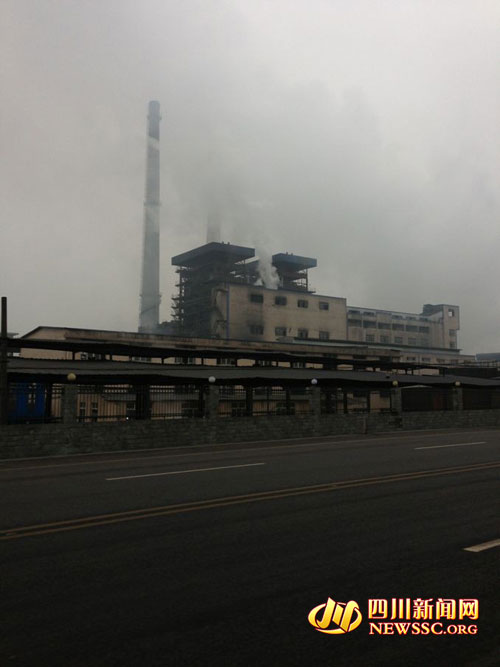dust: (123, 47, 254, 111)
